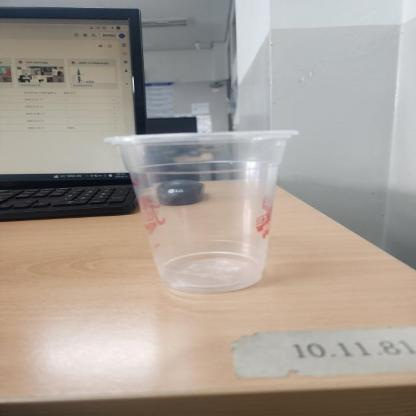Plastic Cup: (102, 130, 300, 294)
